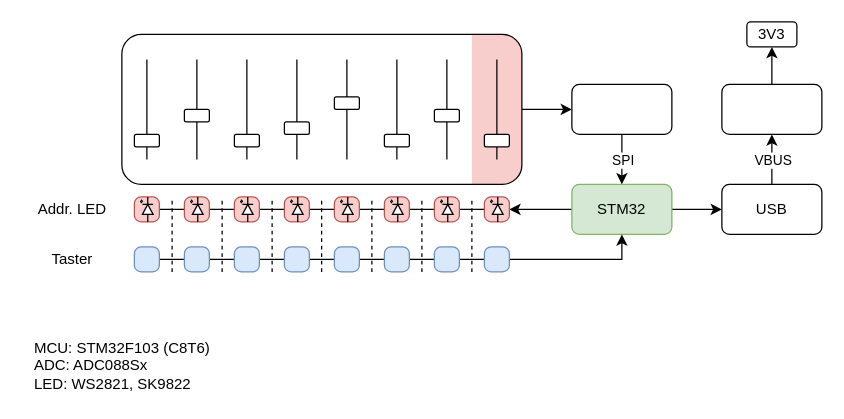
Image size: 844x419. Some labels were removed from this diagram. The shapes that lost their labels are listed below. From the top down, each one's centre as x and y in pixels, then its label:
At point 621,108: "8CH ADC".
At point 771,108: "SMPS".
